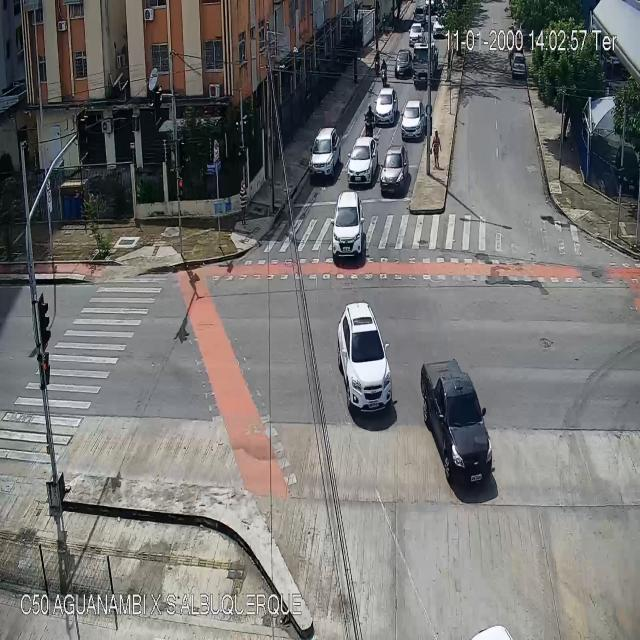Car: (421, 363, 495, 483), (337, 304, 393, 414), (330, 190, 364, 263), (346, 134, 378, 184), (310, 128, 340, 176), (380, 147, 409, 193), (402, 99, 425, 142), (376, 89, 396, 124), (395, 52, 412, 76), (409, 20, 422, 46), (512, 54, 526, 76), (433, 19, 447, 37), (413, 4, 425, 23)
Motorcycle: (364, 106, 374, 135), (372, 49, 380, 77), (381, 57, 388, 86)
Truck: (412, 42, 440, 90)
